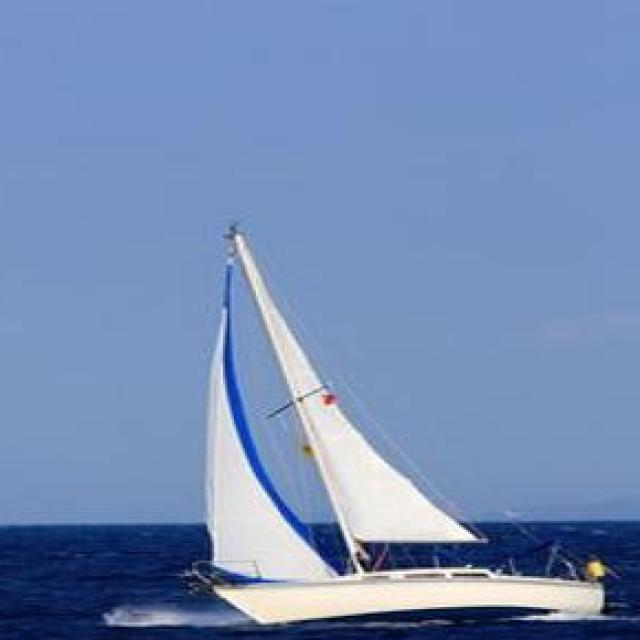sailboat: (182, 223, 609, 621)
